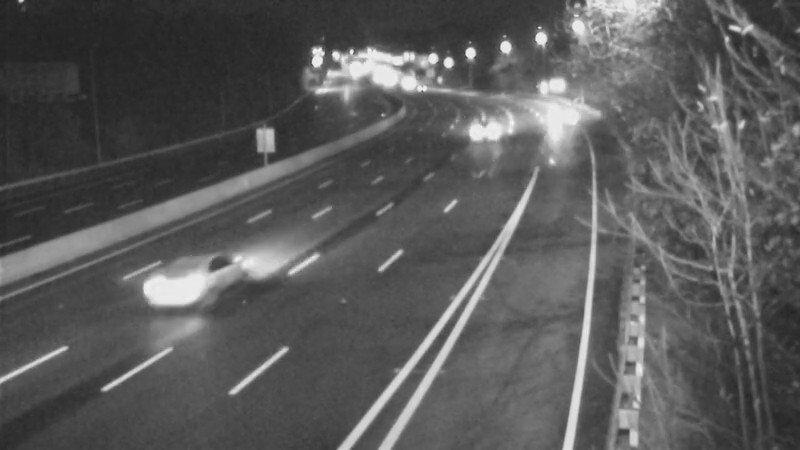vehicle: (128, 249, 208, 329), (396, 63, 446, 113), (532, 92, 582, 142), (458, 107, 508, 157)
